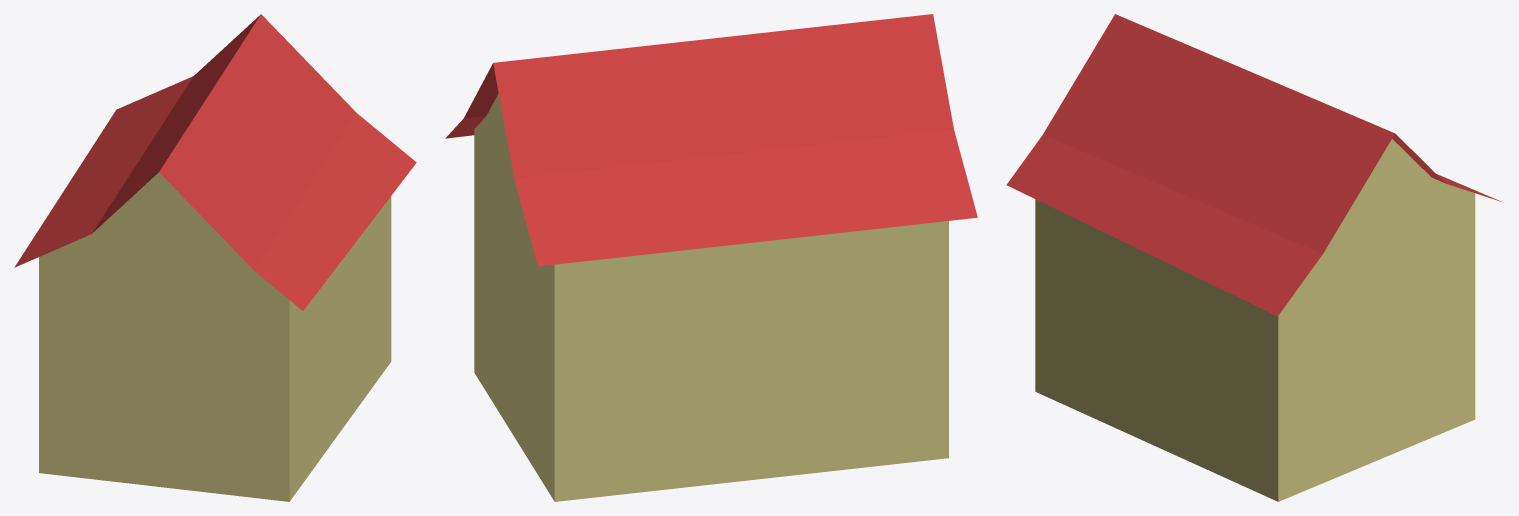
3 views of the same model, side by side, from view 1: azimuth 30°, elevation 25°; view 2: azimuth 150°, elevation 25°; view 3: azimuth 270°, elevation 25° (orthographic). The views are drawn at different scales.
Size of the model in its own units: 24.51 by 24.06 by 17.68.
